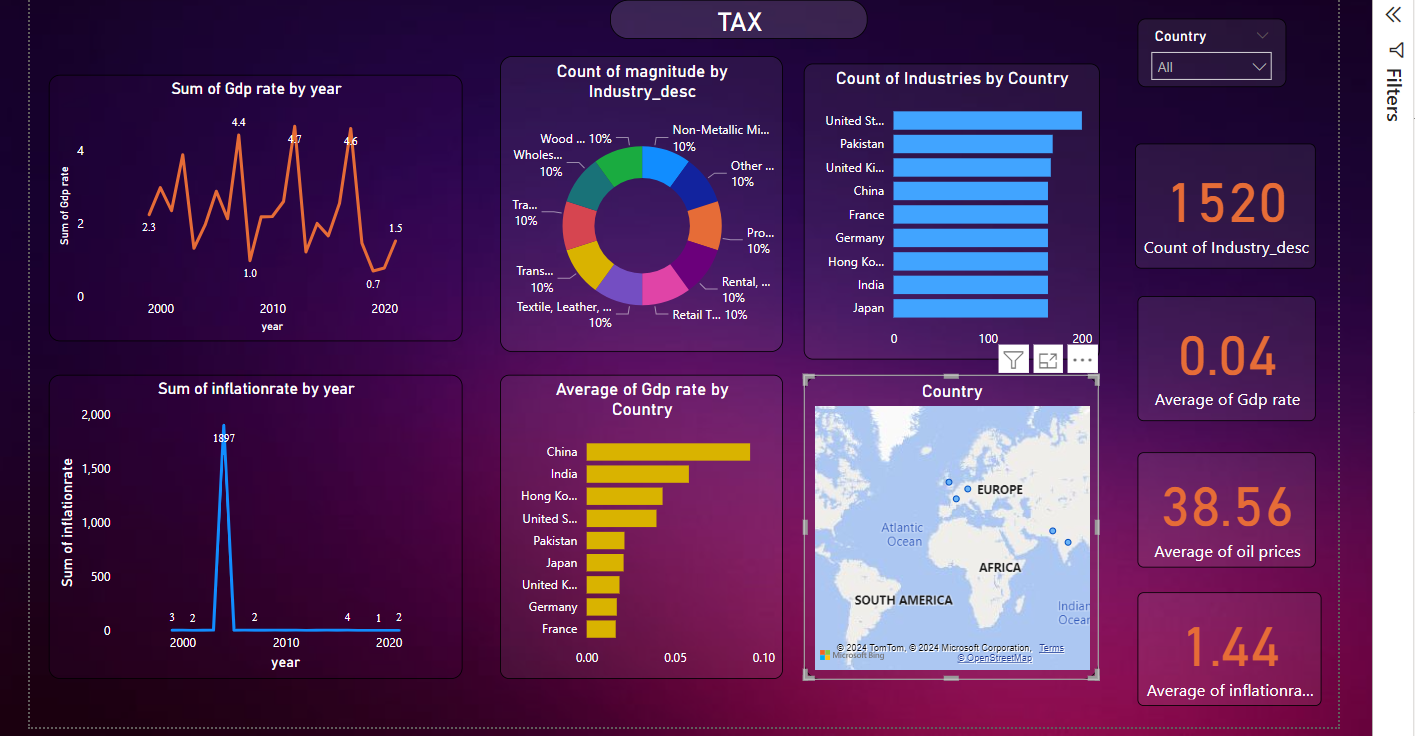

The page's visual inventory and layout, read from the dashboard file:
{"tool":"powerbi","page":{"name":"Page 1","canvas":[1280,720],"ordinal":0},"visuals":[{"type":"lineChart","fields":{"Category":["TAX.year"],"Y":["Sum(TAX.Gdp rate)"]},"box":[17.8,82.3,404.5,260.5],"z":0},{"type":"textbox","title":"TAX DASHBOARD","box":[567.6,8.2,252.3,38.4],"z":1000},{"type":"lineChart","fields":{"Category":["TAX.year"],"Y":["Sum(TAX.inflationrate)"]},"box":[17.8,375.7,404.5,297.5],"z":2000},{"type":"donutChart","fields":{"Category":["TAX.Industry_desc"],"Y":["CountNonNull(TAX.magnitude)"]},"box":[459.3,63.1,277,289.3],"z":3000},{"type":"card","title":"Number of Industries","fields":{"Values":["CountNonNull(TAX.Industry_desc)"]},"box":[1080.4,149.4,176.9,122],"z":4000},{"type":"card","title":"Number of Industries","fields":{"Values":["Avg(TAX.oil prices)"]},"box":[1083.1,451.1,174.1,112.4],"z":5000},{"type":"card","title":"Number of Industries","fields":{"Values":["Avg(TAX.Gdp rate)"]},"box":[1083.1,298.9,174.1,122],"z":6000},{"type":"card","title":"Number of Industries","fields":{"Values":["Avg(TAX.inflationrate)"]},"box":[1083.1,588.2,179.6,111.1],"z":7000},{"type":"barChart","fields":{"Category":["TAX.Country"],"Y":["Avg(TAX.Gdp rate)"]},"box":[459.3,375.7,277,297.5],"z":8000},{"type":"slicer","fields":{"Values":["TAX.Country"]},"box":[1083.1,27.4,145.3,67.2],"z":9000},{"type":"barChart","title":"Count of Industries by Country","fields":{"Category":["TAX.Country"],"Y":["CountNonNull(TAX.Industry_desc)"]},"box":[756.8,71.3,289.3,289.3],"z":10000},{"type":"map","fields":{"Category":["TAX.Country"]},"box":[757,376,289,298],"z":11000}]}

Visuals, with their boxes on the page's 1280x720 design canvas (x1, y1, x2, y2). These are canvas units, not pixel positions in the 1415x736 screenshot, which may show the page scaled, cropped or inside an application window:
lineChart - TAX.year x Sum(TAX.Gdp rate): crop(18, 82, 422, 343)
"TAX DASHBOARD" textbox: crop(568, 8, 820, 47)
lineChart - TAX.year x Sum(TAX.inflationrate): crop(18, 376, 422, 673)
donutChart - TAX.Industry_desc x CountNonNull(TAX.magnitude): crop(459, 63, 736, 352)
"Number of Industries" card: crop(1080, 149, 1257, 271)
"Number of Industries" card: crop(1083, 451, 1257, 564)
"Number of Industries" card: crop(1083, 299, 1257, 421)
"Number of Industries" card: crop(1083, 588, 1263, 699)
barChart - TAX.Country x Avg(TAX.Gdp rate): crop(459, 376, 736, 673)
slicer - TAX.Country: crop(1083, 27, 1228, 95)
"Count of Industries by Country" barChart: crop(757, 71, 1046, 361)
map - TAX.Country: crop(757, 376, 1046, 674)
